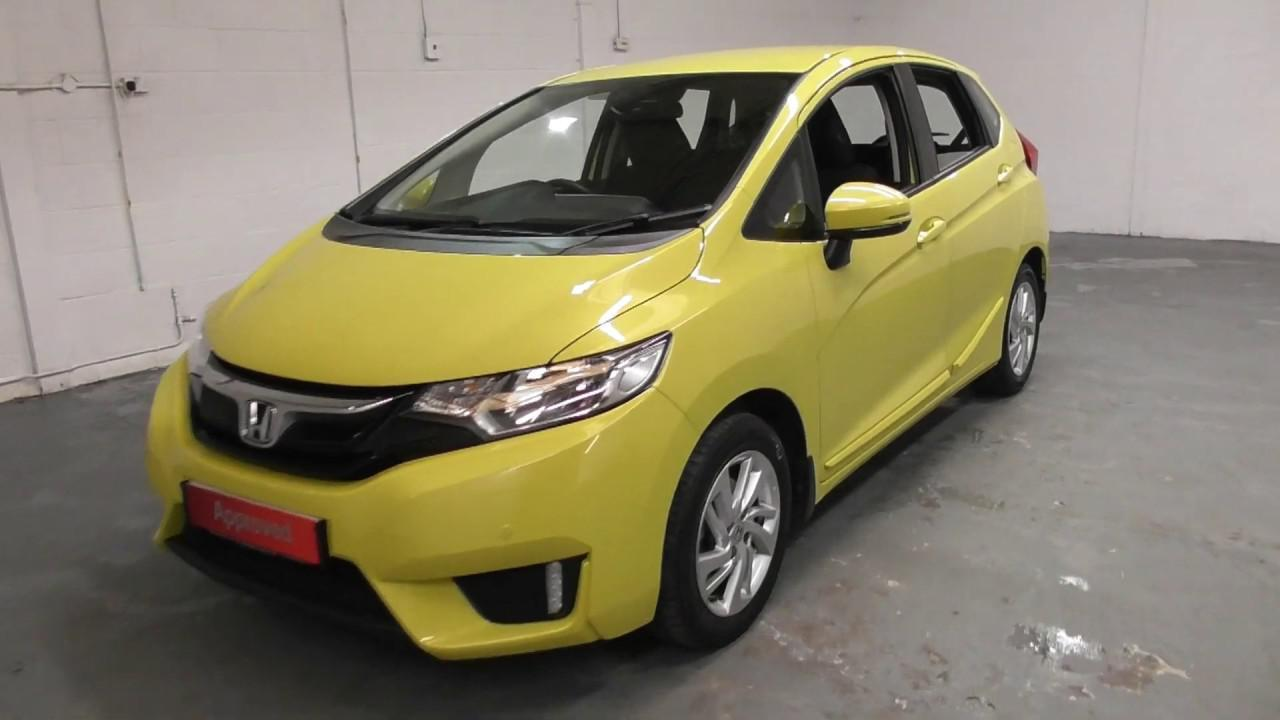Hatchback: (126, 26, 1063, 679)
